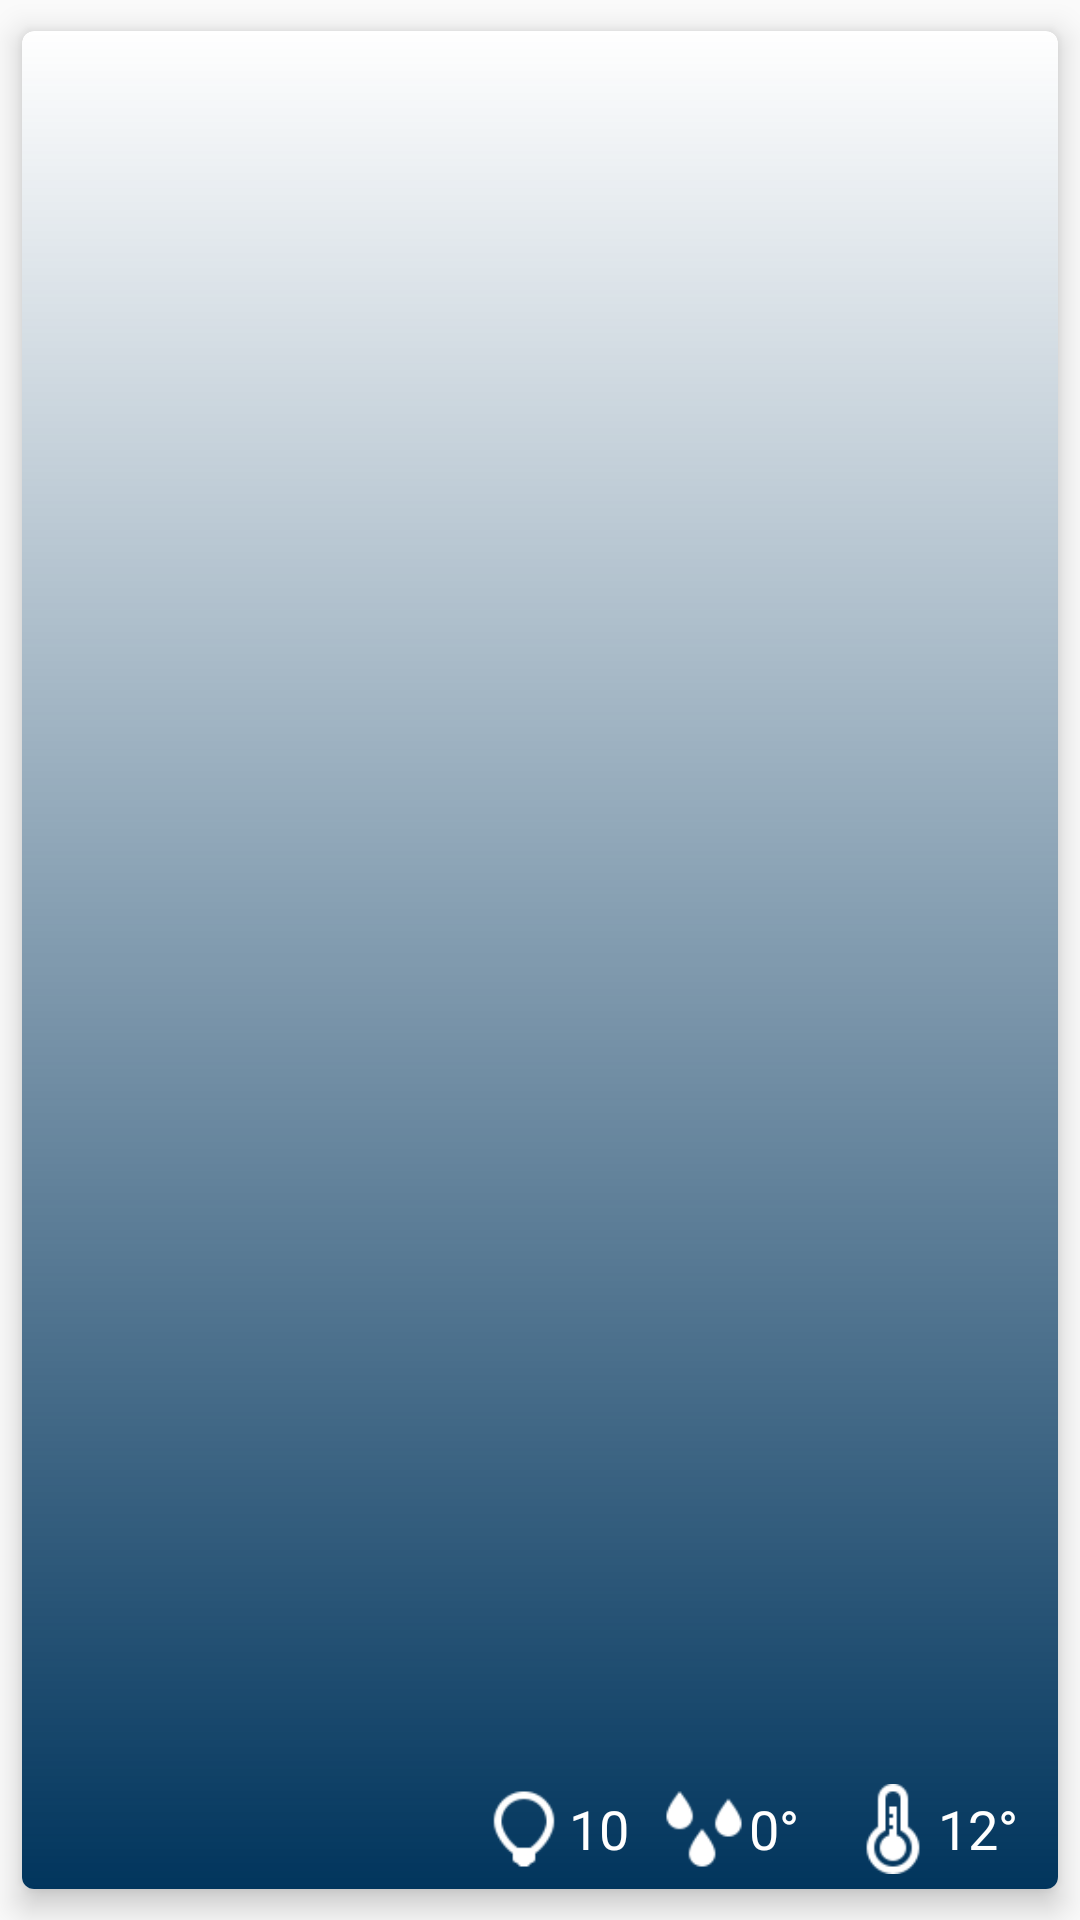

Icons on this 1080 × 1920 Android screen, each with the point to tap as point (x, y):
focob: point (524, 1829)
humedad: point (704, 1829)
temperatura: point (893, 1829)
